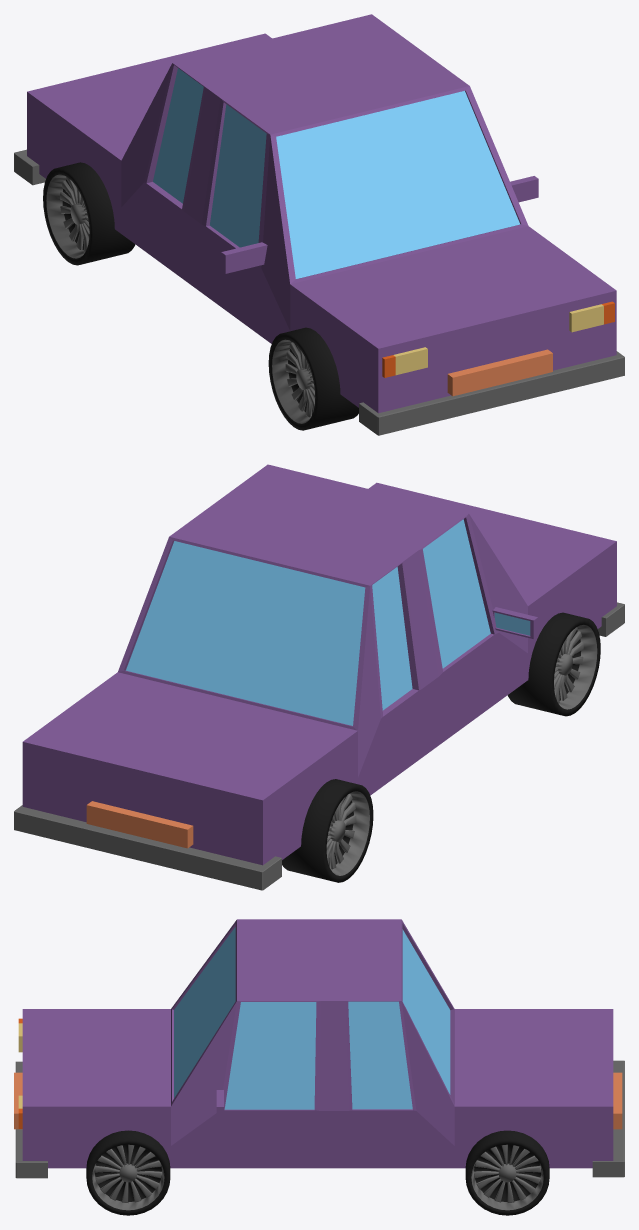
The model's file is LowPolyCar.fbx.
The picture shows the model from 3 angles, top to bottom: view 1: azimuth 30°, elevation 25°; view 2: azimuth 150°, elevation 25°; view 3: azimuth 270°, elevation 25°; orthographic projection. The views are drawn at different scales.
Visible parts, largest first — view 1: Car; view 2: Car; view 3: Car.
Boxes of the visible parts, box(x1,y1,x2,y2) form: Car: box(14, 14, 624, 435); Car: box(14, 464, 624, 890); Car: box(14, 919, 624, 1215).
Bounding box in the file's own units: 263 × 188 × 528.
